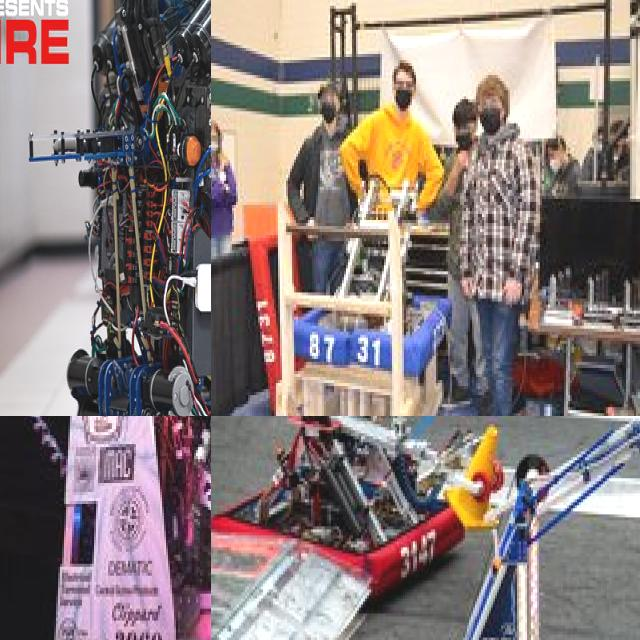FRC-Robots: (0, 0, 211, 416), (323, 416, 617, 640), (211, 416, 515, 588), (0, 416, 211, 640), (283, 172, 472, 374)
